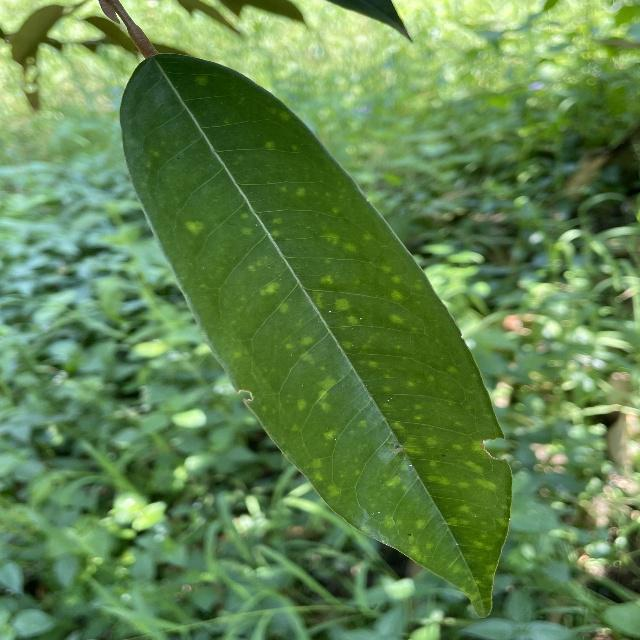Leaf Spot: (113, 45, 519, 623)
